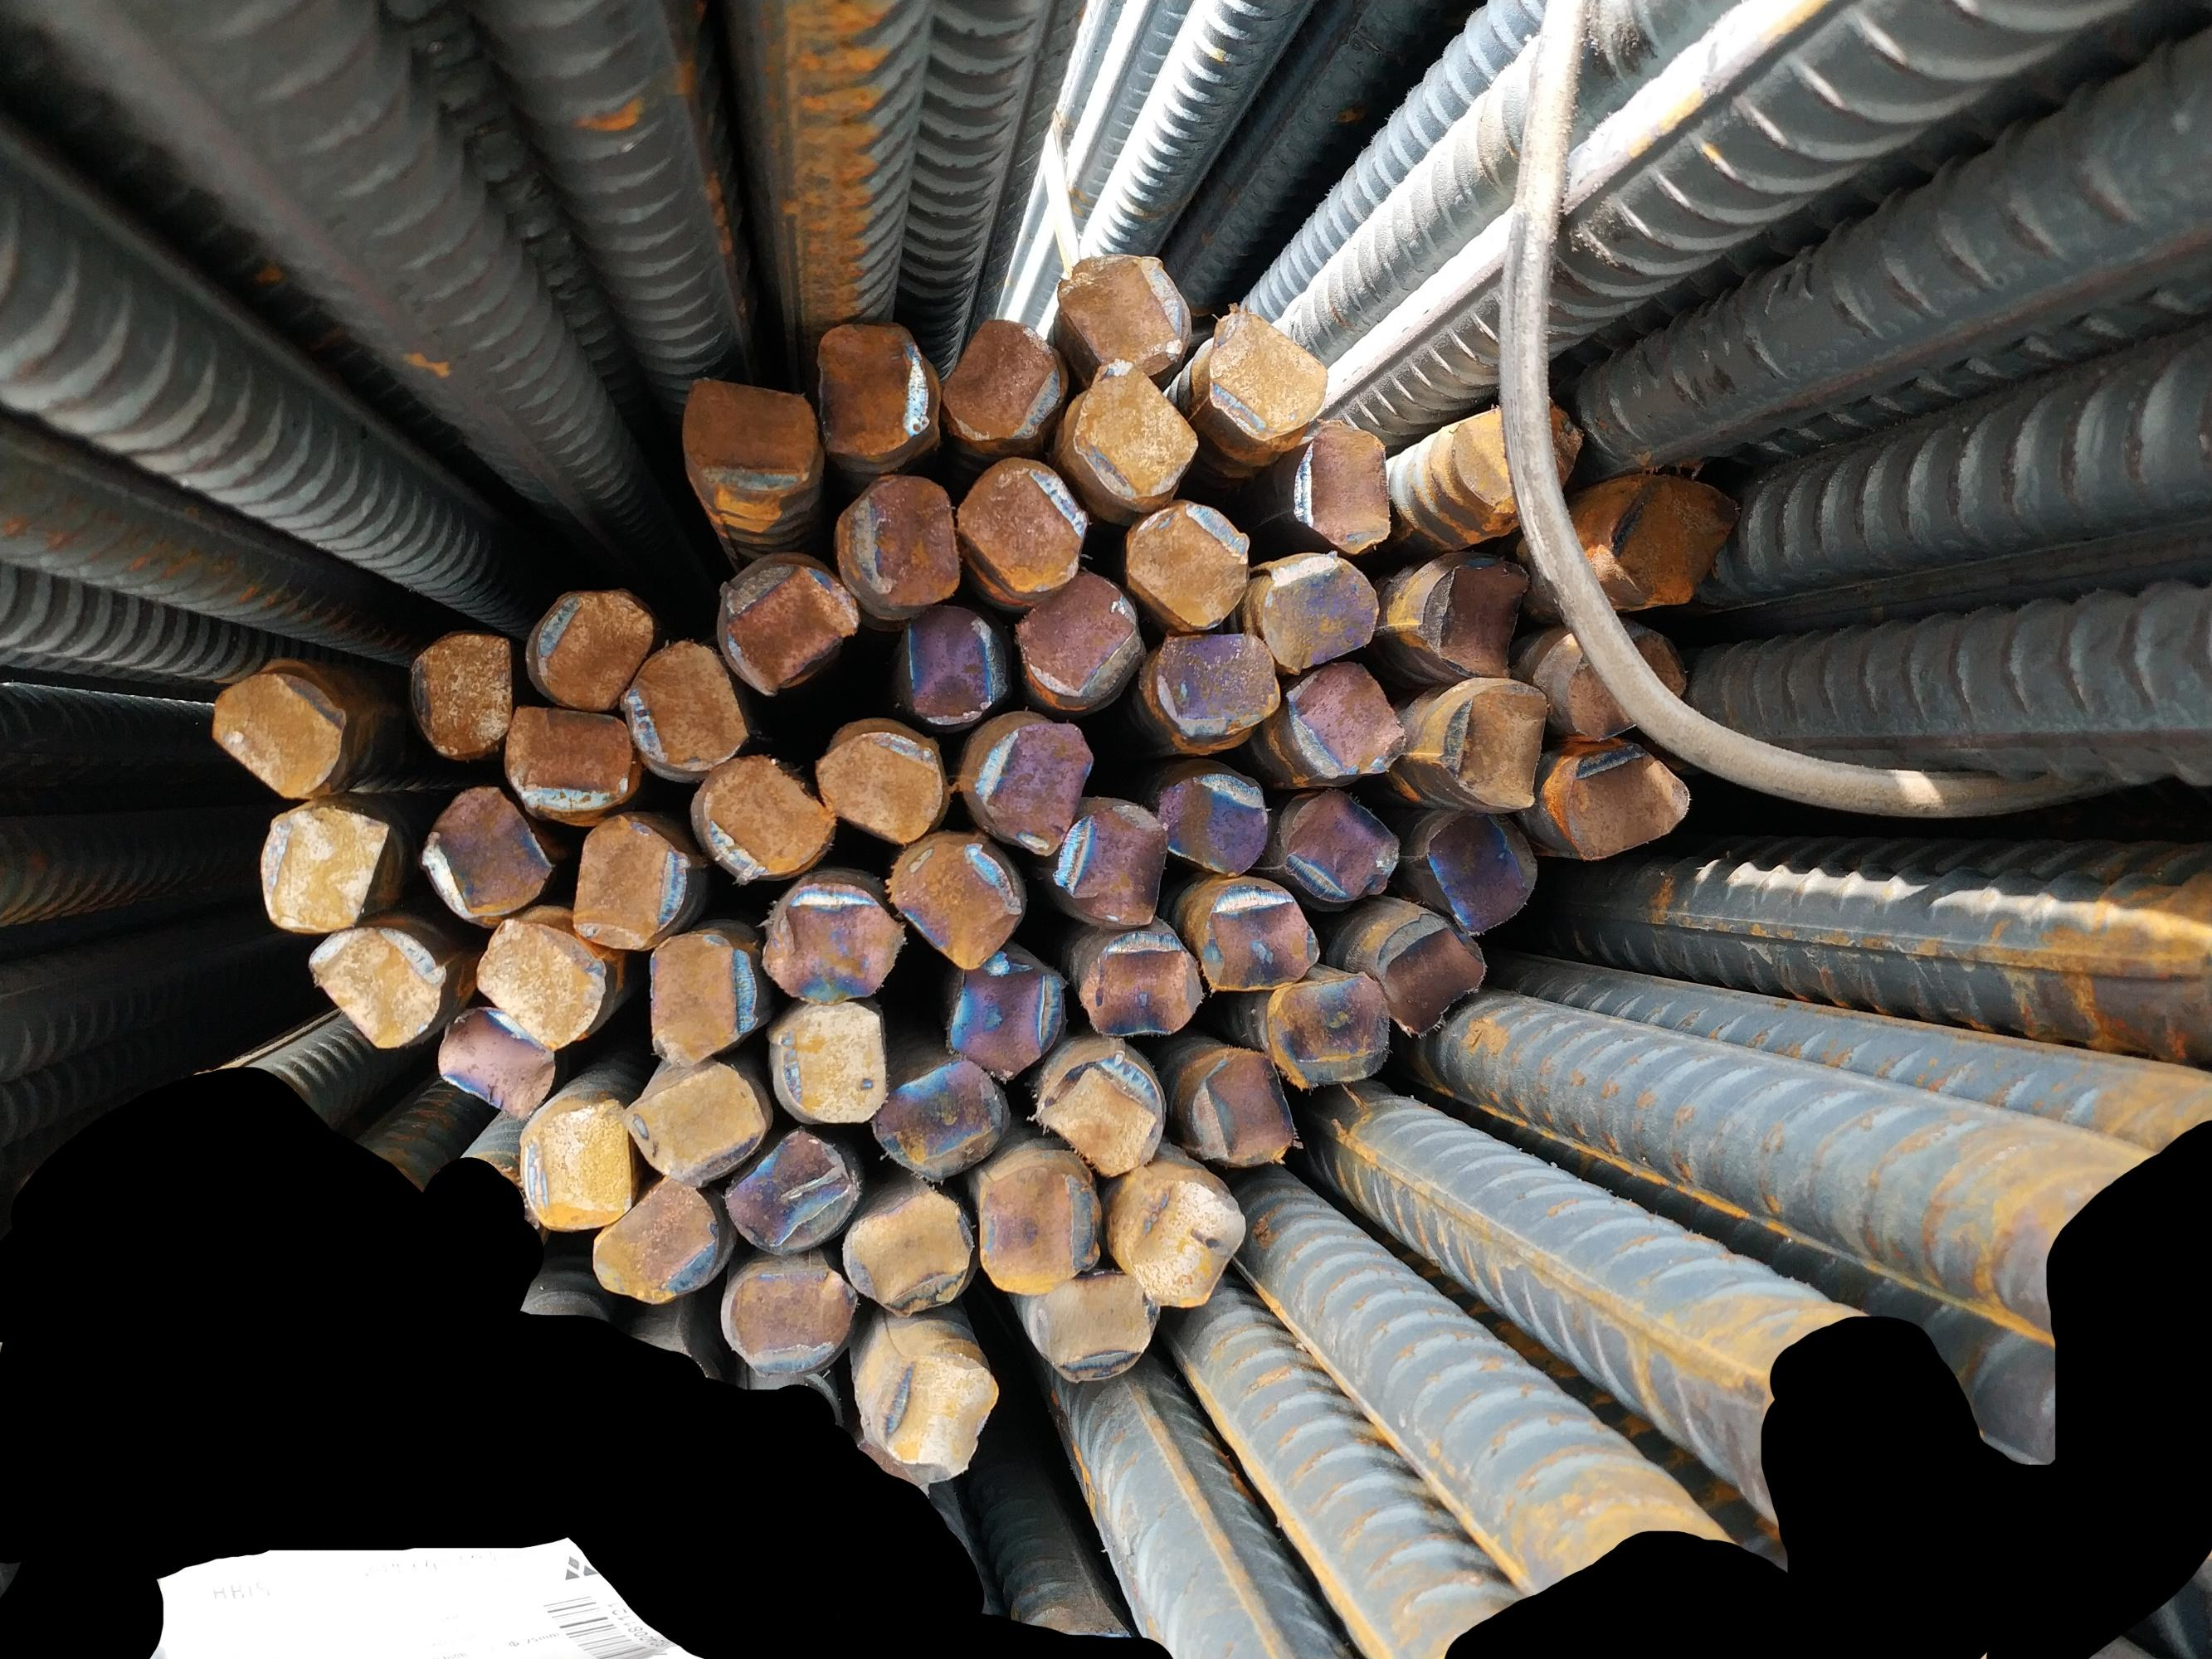bar: (1064, 353, 1204, 512), (716, 547, 861, 699), (412, 776, 558, 923), (613, 1054, 772, 1187), (1601, 466, 1747, 610), (202, 666, 353, 805), (880, 829, 1025, 974), (950, 451, 1093, 598), (1537, 736, 1697, 865), (250, 792, 392, 937), (1104, 1170, 1249, 1312), (753, 878, 909, 1010), (1196, 305, 1333, 455), (614, 632, 754, 777), (689, 749, 840, 883), (470, 912, 611, 1054), (721, 1123, 865, 1261), (300, 920, 449, 1053), (865, 1052, 1015, 1184), (967, 716, 1101, 862), (831, 467, 964, 613), (864, 1348, 1001, 1489), (1118, 494, 1254, 636), (1011, 561, 1143, 708), (676, 367, 823, 498), (939, 949, 1076, 1089), (587, 1169, 723, 1310), (836, 1185, 977, 1321), (1027, 1046, 1171, 1179), (1050, 247, 1191, 381), (565, 805, 693, 952), (971, 1160, 1105, 1299), (811, 316, 936, 462), (513, 1090, 638, 1235), (1447, 384, 1585, 516), (1272, 653, 1412, 781), (1043, 794, 1172, 932), (1143, 623, 1285, 747), (1365, 904, 1493, 1042), (806, 724, 948, 848), (719, 1257, 865, 1378), (1258, 963, 1393, 1092), (642, 927, 761, 1073), (936, 313, 1068, 444), (526, 586, 658, 717), (767, 993, 893, 1130), (498, 695, 638, 817), (1418, 804, 1544, 939), (1254, 547, 1383, 678), (1027, 1264, 1165, 1386), (1279, 781, 1406, 910), (1287, 411, 1399, 558), (1433, 676, 1551, 815), (1074, 926, 1209, 1045), (1416, 548, 1534, 684), (1182, 1044, 1308, 1171), (403, 622, 517, 762), (1192, 876, 1324, 996), (431, 1003, 560, 1124), (1559, 625, 1693, 741), (898, 596, 1003, 734), (1148, 766, 1275, 879)
